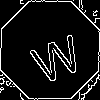W: (25, 25, 86, 86)
